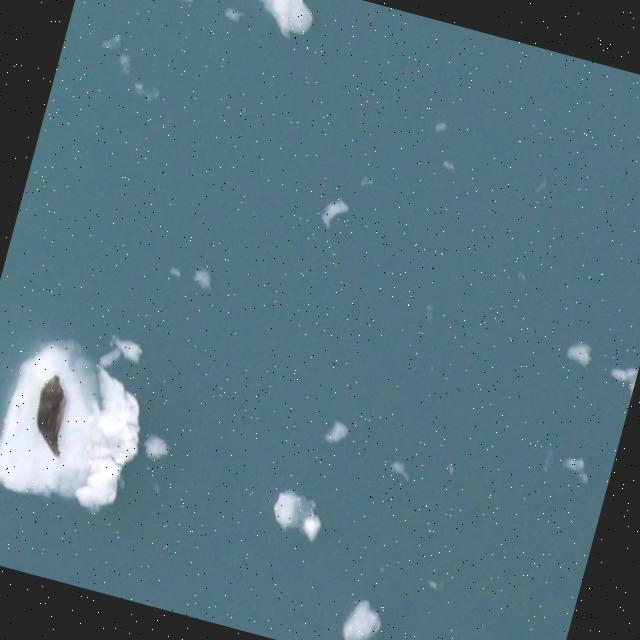seal: (29, 371, 71, 456)
